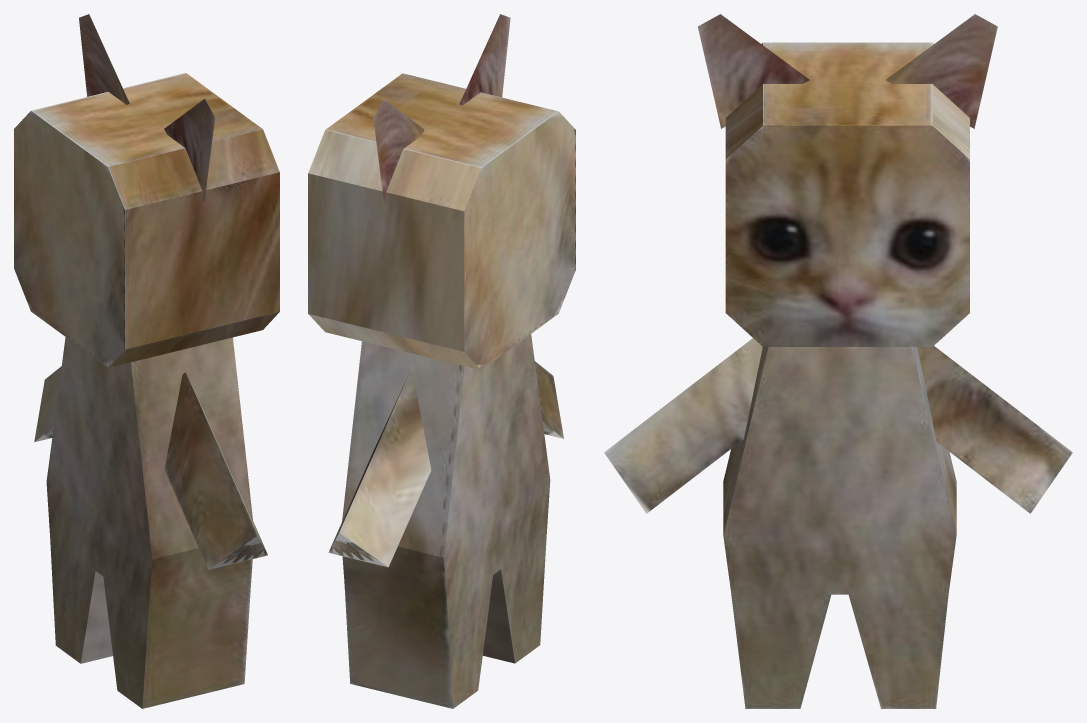
File: el gato.fbx
3 views of the same model, side by side, from view 1: azimuth 30°, elevation 25°; view 2: azimuth 150°, elevation 25°; view 3: azimuth 270°, elevation 25° (orthographic). The views are drawn at different scales.
Parts seen in each view (by area): view 1: Cube.002; view 2: Cube.002; view 3: Cube.002.
Part boxes in pixels (<box>): Cube.002: <box>14,14,279,708</box>; Cube.002: <box>308,14,575,708</box>; Cube.002: <box>604,14,1072,708</box>.
Size of the model in its own units: 162 by 604 by 384.
